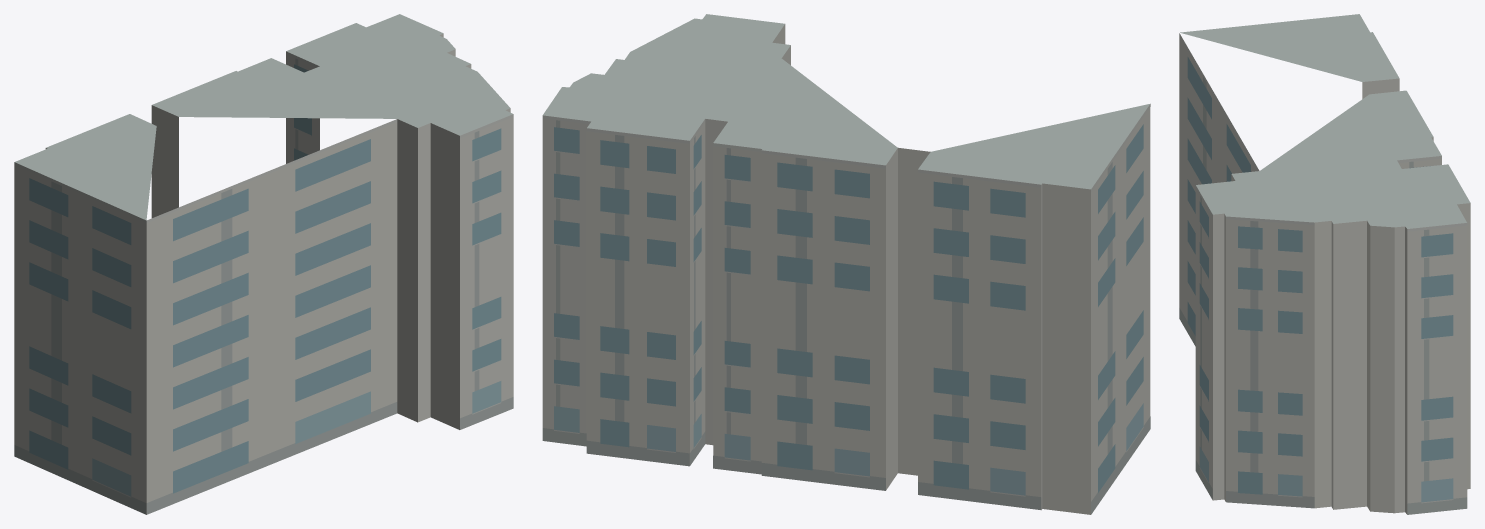
Rendered from survey-upis-32838071.glb.
3 renders of one model, left to right at view 1: azimuth 30°, elevation 25°; view 2: azimuth 150°, elevation 25°; view 3: azimuth 270°, elevation 25°, orthographic. The views are drawn at different scales.
Parts seen in each view (by area): view 1: survey-upis-32838071.tmp; view 2: survey-upis-32838071.tmp; view 3: survey-upis-32838071.tmp.
Part boxes in pixels (<box>): survey-upis-32838071.tmp: <box>14,14,513,514</box>; survey-upis-32838071.tmp: <box>542,14,1150,514</box>; survey-upis-32838071.tmp: <box>1179,14,1470,514</box>.
Size of the model in its own units: 40.27 by 24.95 by 23.07.
